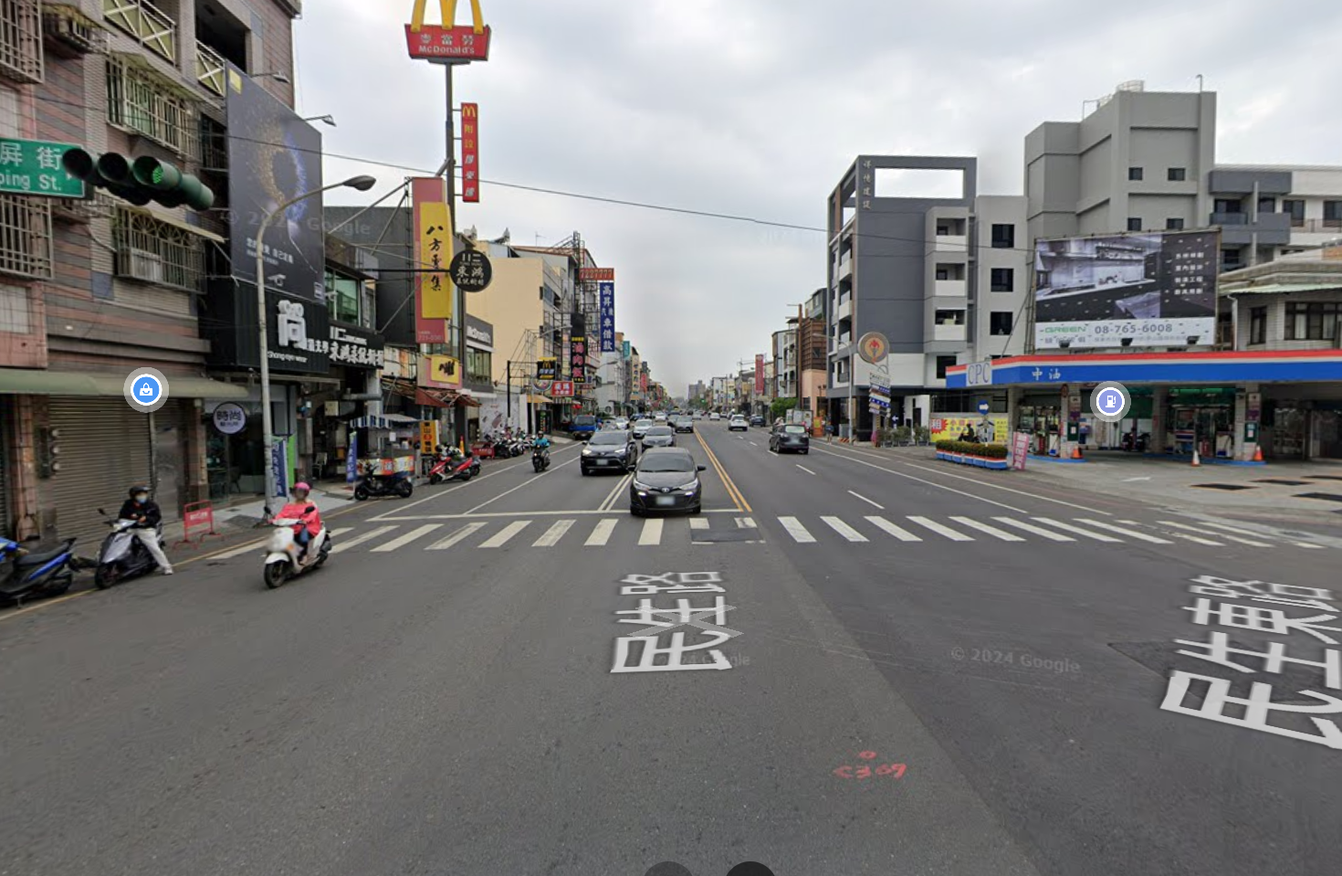green: (65, 141, 197, 200)
